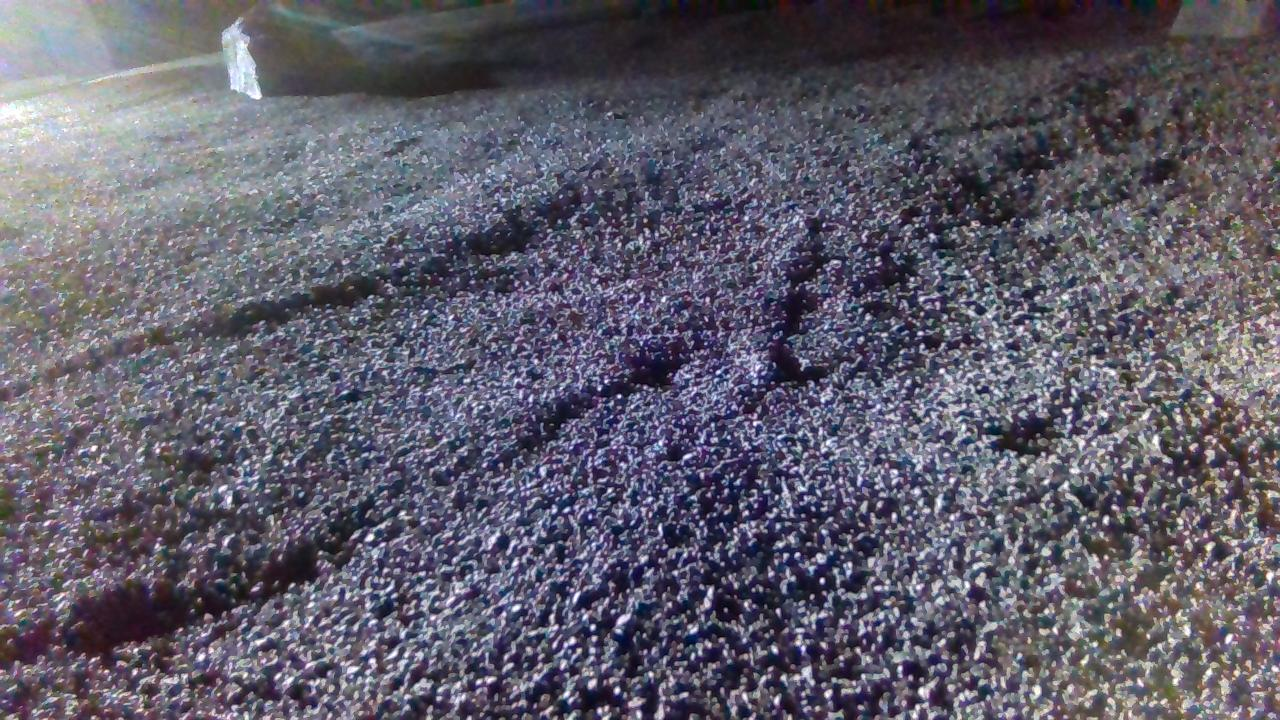rock: (221, 16, 260, 97)
